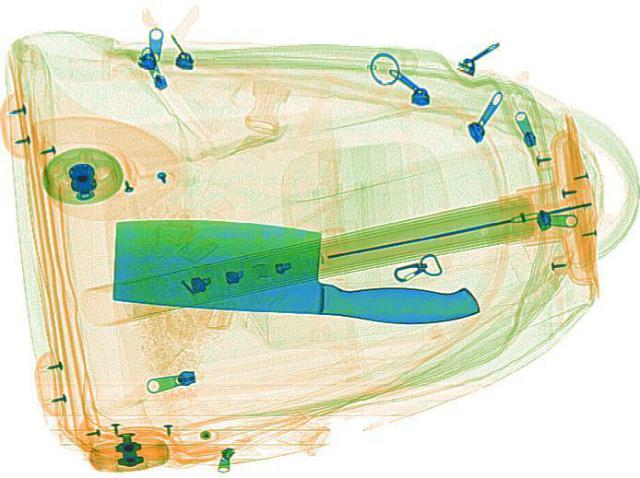Knife: (104, 213, 488, 327)
